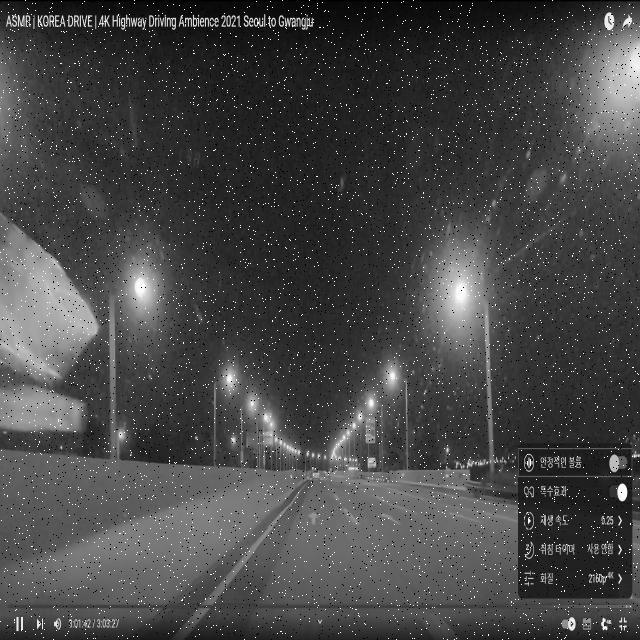forward: (262, 508, 363, 528)
